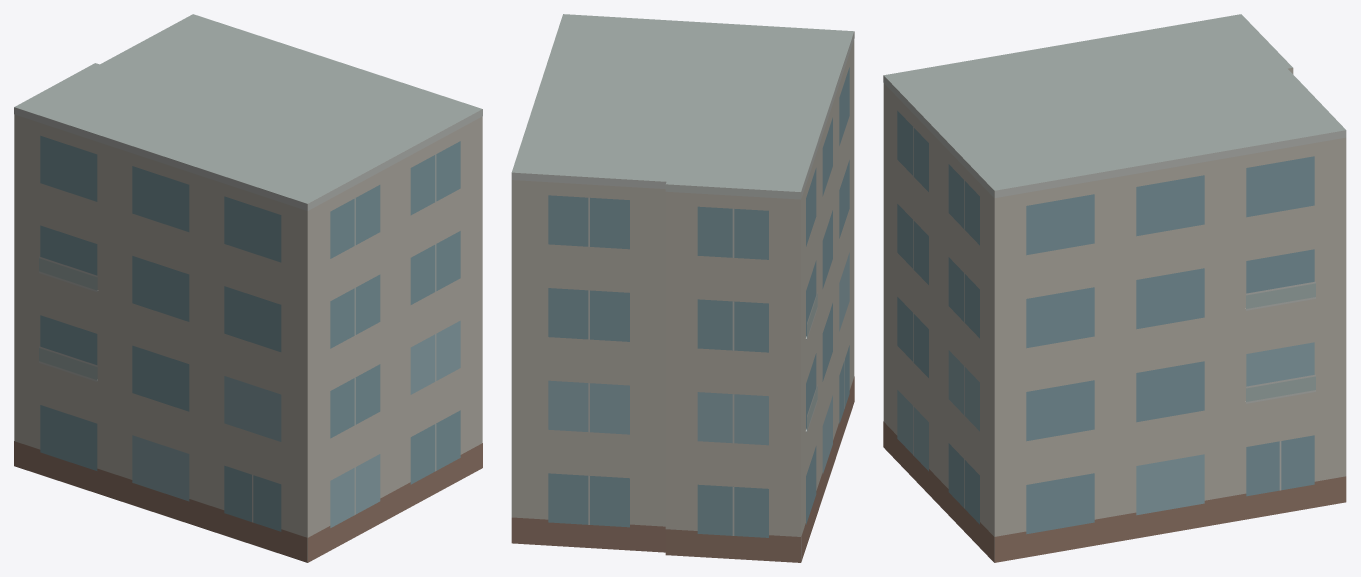
Rendered from survey-upis-32965666.glb.
3 renders of one model, left to right at view 1: azimuth 30°, elevation 25°; view 2: azimuth 150°, elevation 25°; view 3: azimuth 270°, elevation 25°, orthographic. The views are drawn at different scales.
Visible parts, largest first — view 1: survey-upis-32965666.tmp; view 2: survey-upis-32965666.tmp; view 3: survey-upis-32965666.tmp.
Boxes of the visible parts, bbox=[...] form: survey-upis-32965666.tmp: bbox=[14, 14, 482, 562]; survey-upis-32965666.tmp: bbox=[511, 14, 854, 562]; survey-upis-32965666.tmp: bbox=[883, 14, 1346, 562].
Bounding box in the file's own units: 12.44 × 12.2 × 13.76.
